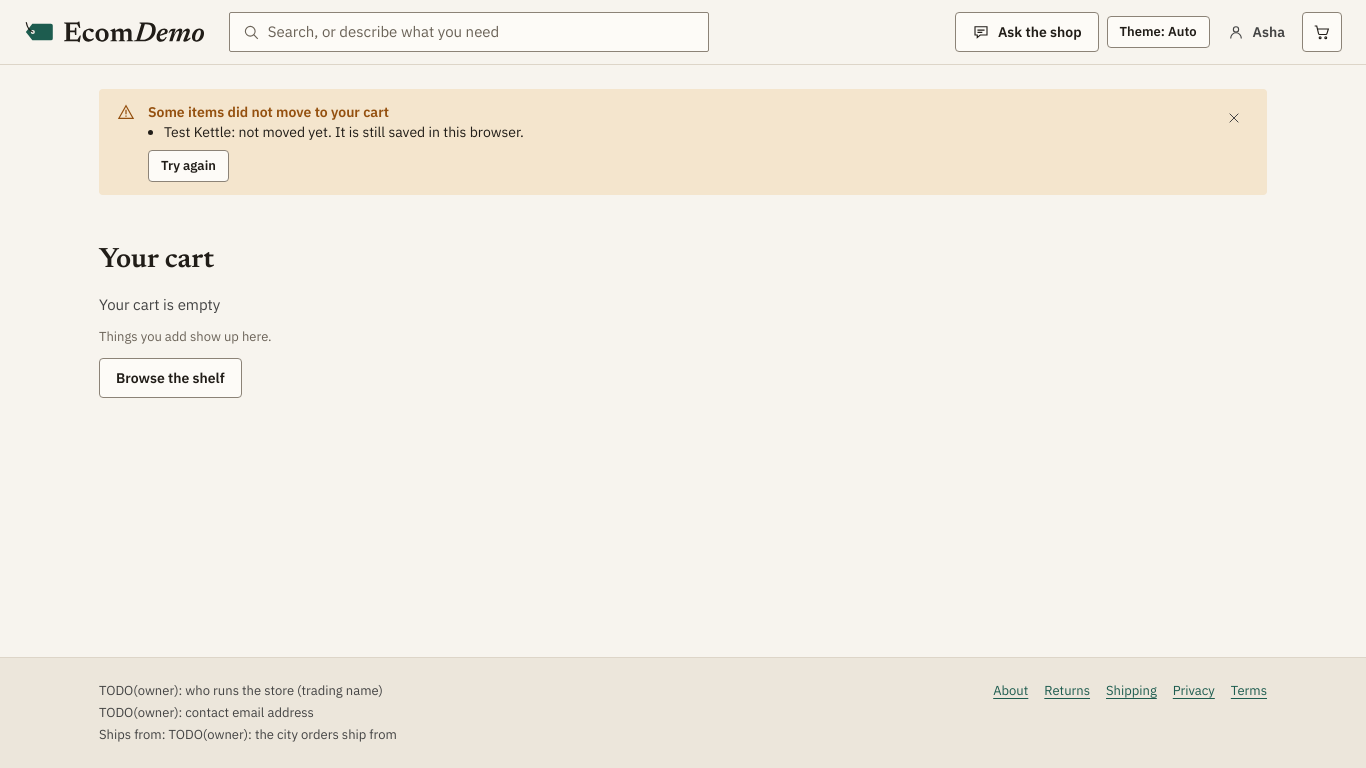
moving the guest cart into the account on sign-in › does not post a line again when the first post arrived but its answer was lost (web KI-037)
The image size is (1366, 768).
Expected: the heading "Your cart" is shown, [99,243,214,277]
Expected: the list item "not moved yet" is shown, [164,123,524,141]
Click the button "Try again" at [188, 166], box [148,150,229,182]
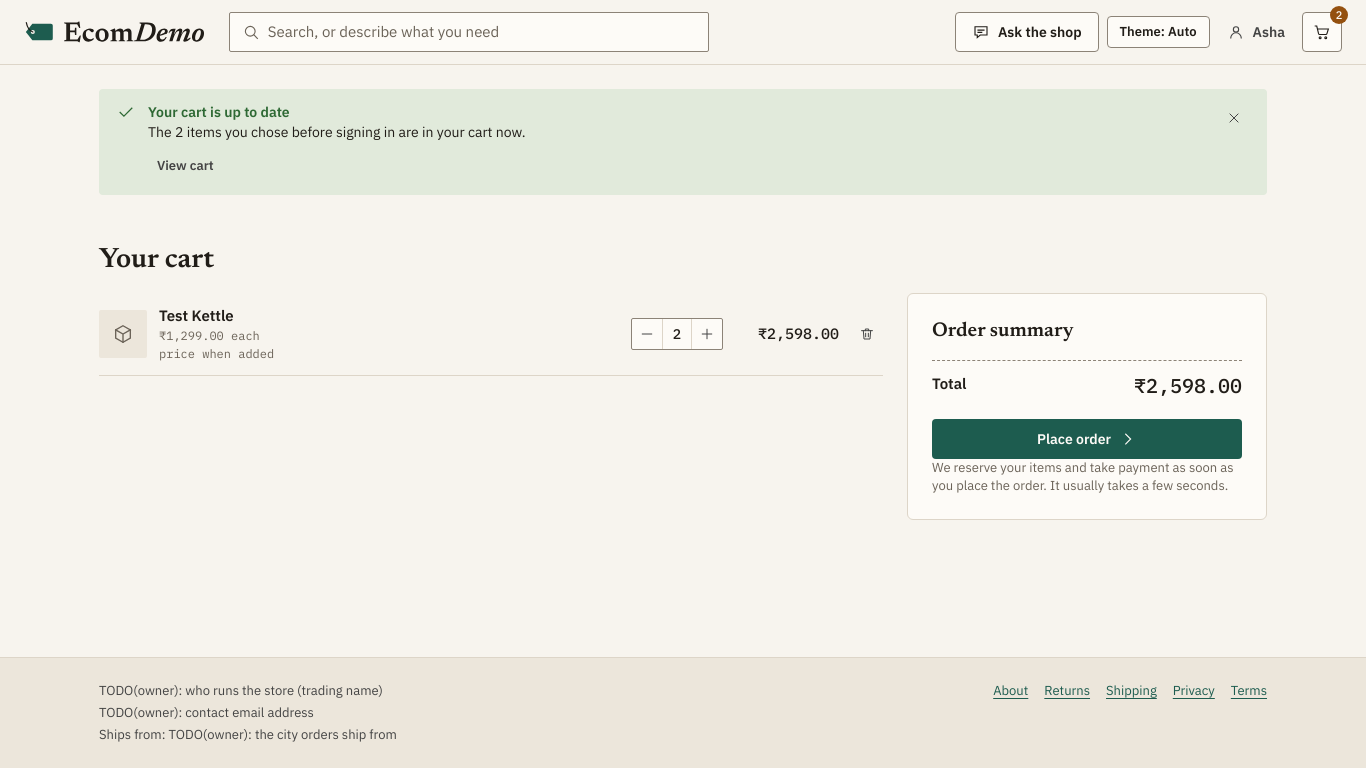
Expected: the text "Your cart is up to date" is shown, [148,103,290,121]
